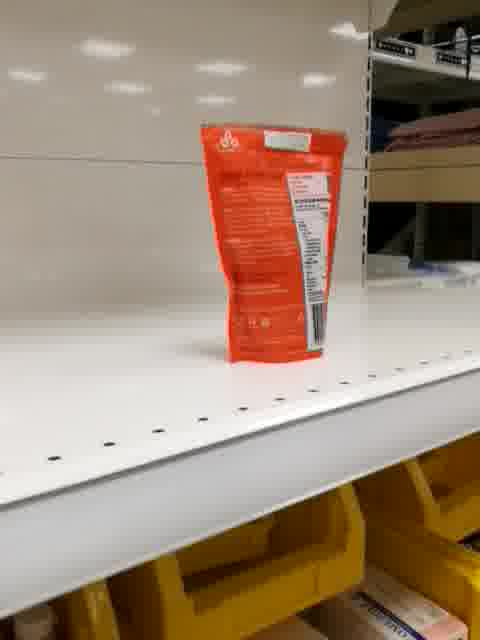whitechia: (197, 121, 351, 367)
